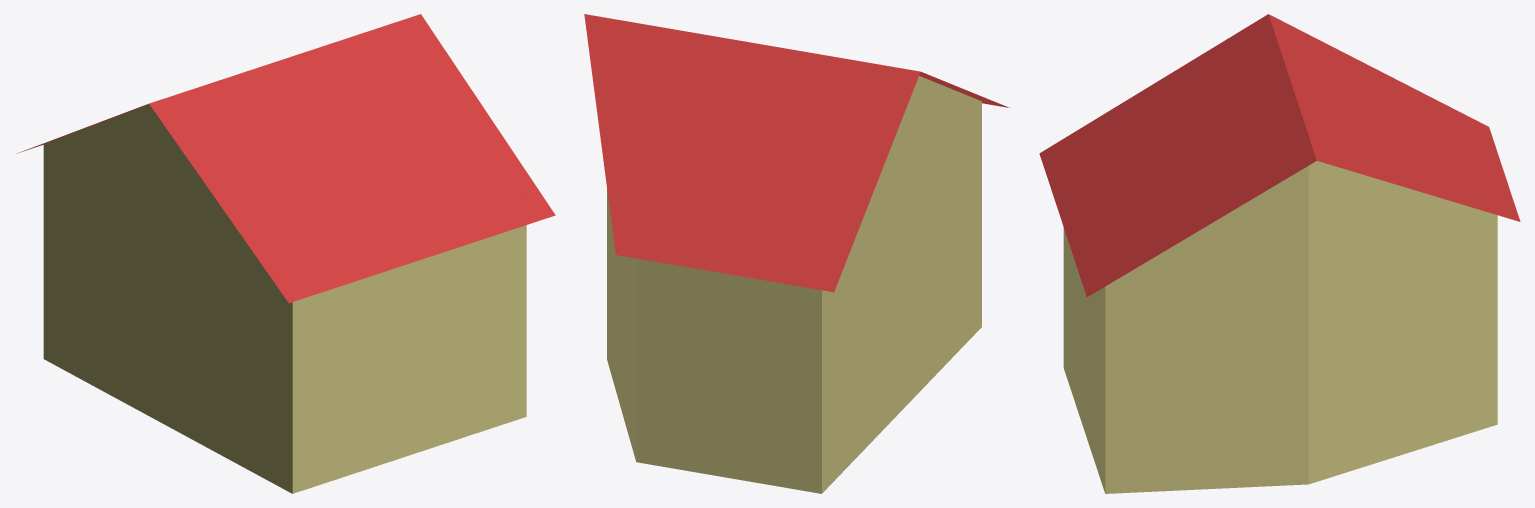
3 views of the same model, side by side, from view 1: azimuth 30°, elevation 25°; view 2: azimuth 150°, elevation 25°; view 3: azimuth 270°, elevation 25° (orthographic). The views are drawn at different scales.
Bounding box in the file's own units: 14.13 × 16.85 × 12.84.
